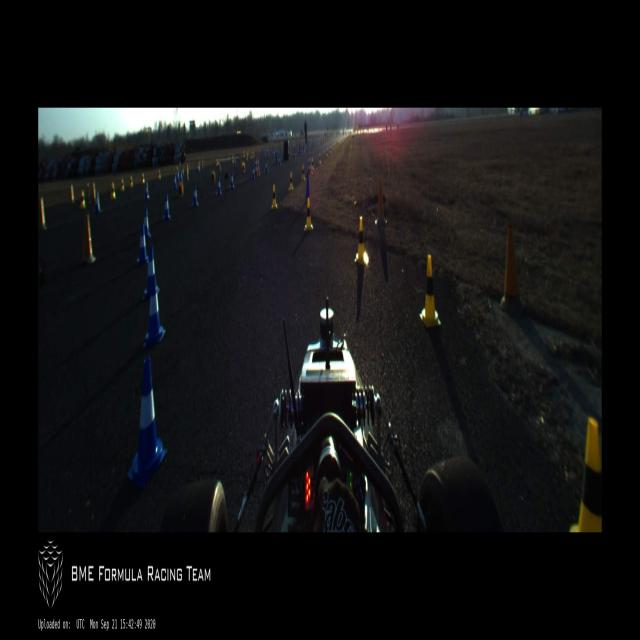blue_cone: (127, 356, 167, 489), (143, 276, 166, 348), (143, 246, 160, 300), (136, 226, 148, 266), (162, 194, 170, 222), (144, 208, 151, 239), (94, 191, 101, 214), (192, 185, 198, 208), (216, 178, 222, 197), (144, 182, 150, 200), (230, 172, 234, 190), (173, 175, 177, 190), (252, 166, 255, 180), (265, 161, 268, 173)
large_orange_cone: (256, 156, 260, 177), (255, 155, 258, 177), (310, 154, 313, 175), (308, 154, 310, 175)
yellow_cone: (569, 417, 602, 532), (419, 254, 442, 328), (355, 216, 369, 266), (304, 197, 314, 231), (271, 184, 278, 210), (288, 172, 294, 192), (80, 190, 86, 208), (110, 182, 116, 200), (301, 164, 305, 180), (120, 177, 124, 192), (311, 157, 314, 170), (130, 175, 133, 188), (318, 153, 321, 165), (142, 172, 145, 184)
